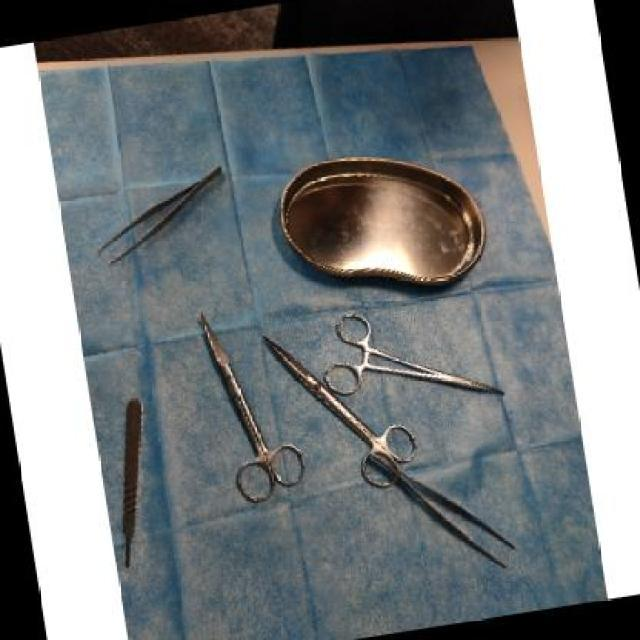tools_table: (85, 142, 537, 580)
